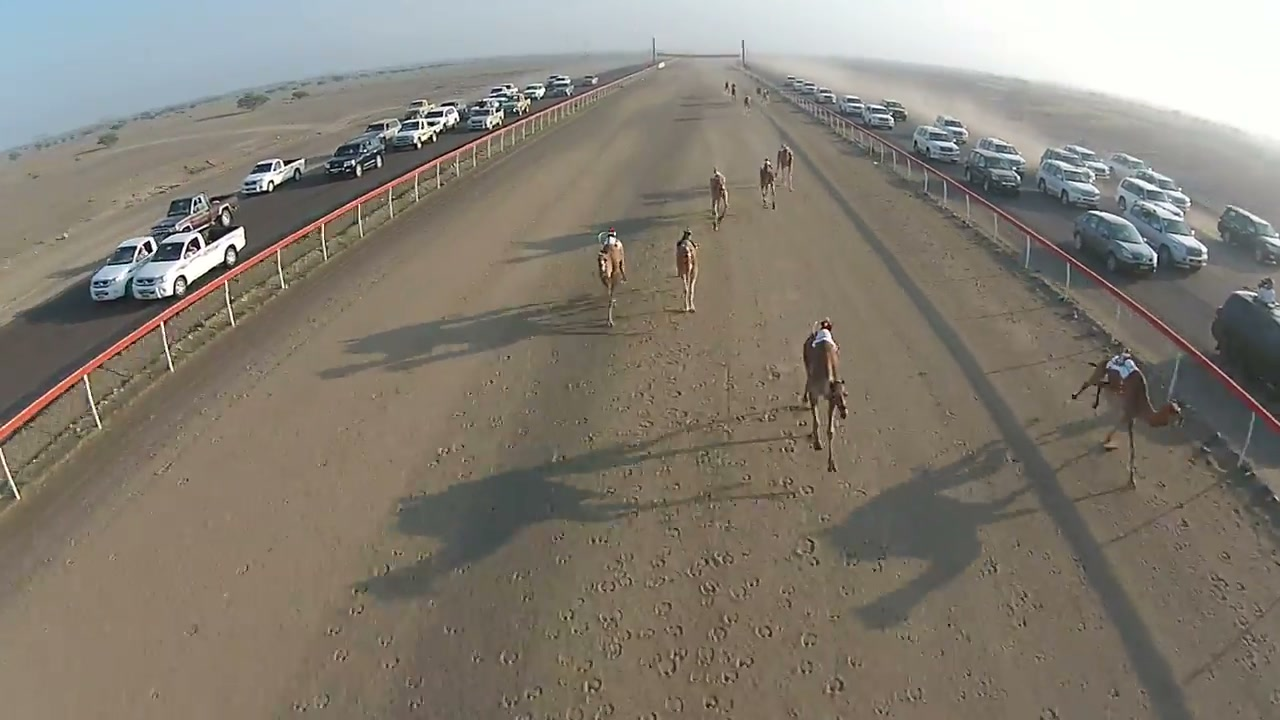animal_foot_print: (502, 342, 842, 718)
